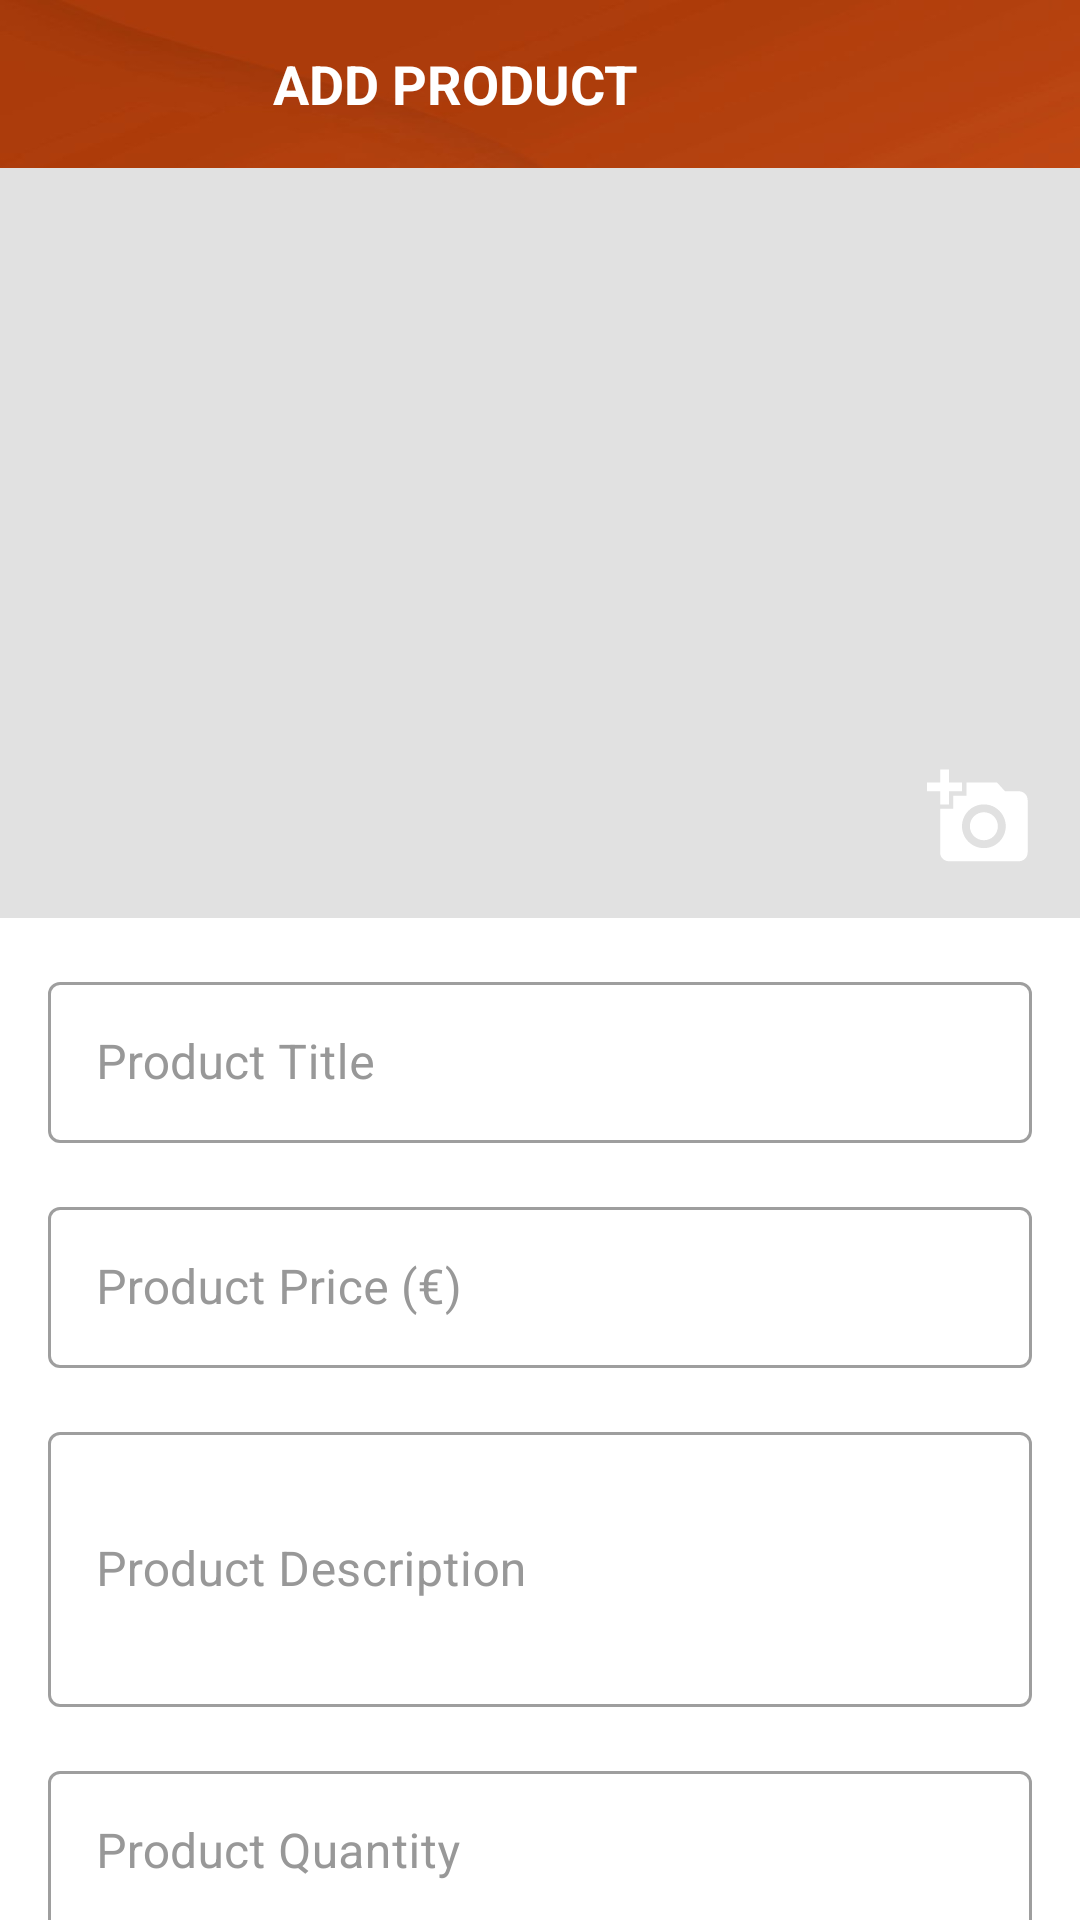

Icons on this 1080 x 1920 Android screen, each with its box as (x1, y1, x2, y2):
add photo: (927, 770, 1027, 861)
